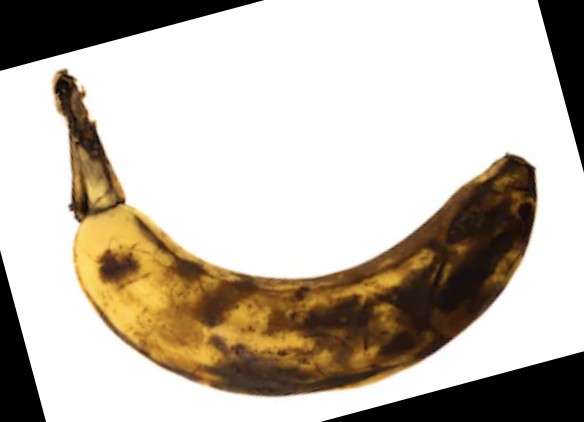rotten_banana: (53, 67, 538, 397)
